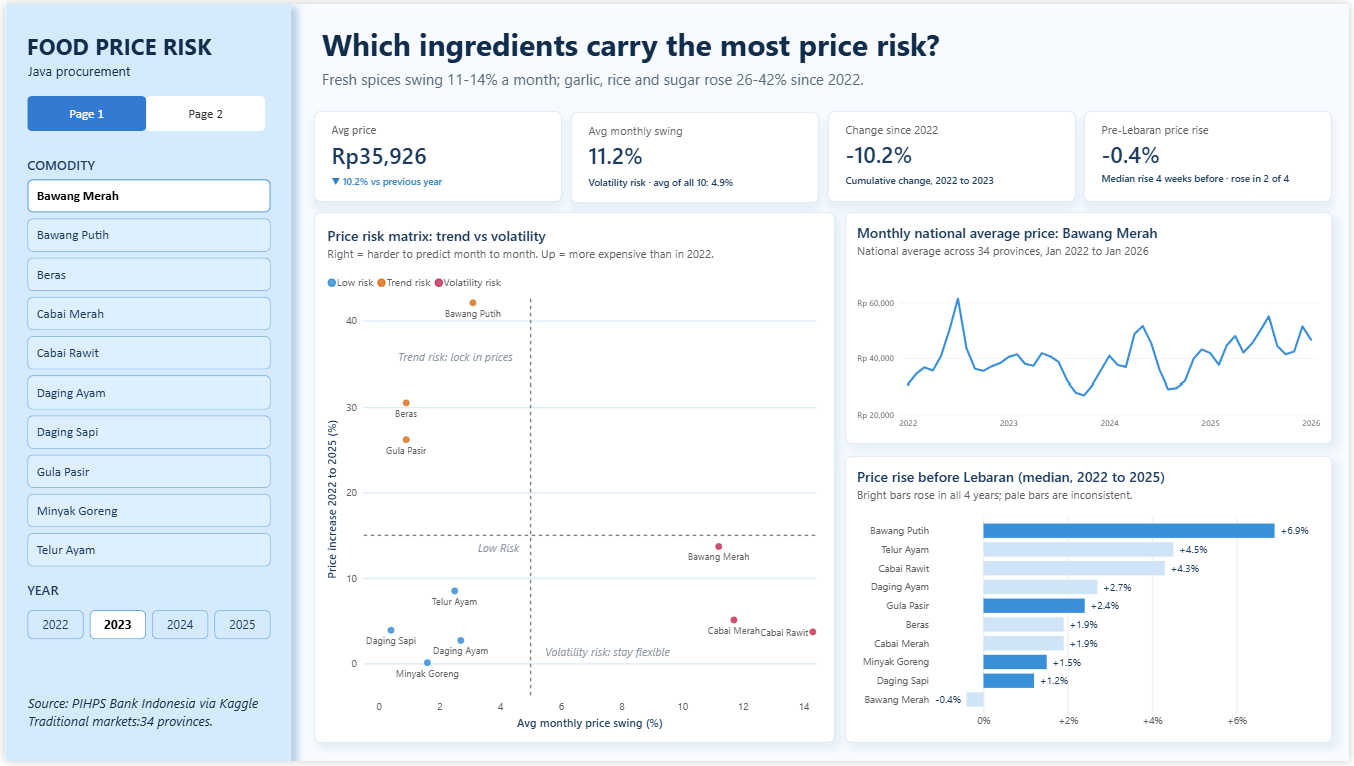

What the dashboard file says about the page in this screenshot:
{"tool":"powerbi","page":{"name":"Page 1","canvas":[1920,1080],"ordinal":0},"visuals":[{"type":"shape","box":[1.7,0,407,1080.3],"z":0},{"type":"advancedSlicerVisual","title":"COMODITY","fields":{"Values":["dim_komoditas.nama_komoditas"]},"box":[25,216.7,360,585],"z":1000},{"type":"advancedSlicerVisual","title":"YEAR","fields":{"Values":["dim_tahun.tahun"]},"box":[25,816.7,360,95],"z":2000},{"type":"textbox","box":[32.4,984.5,346.5,69],"z":3000},{"type":"pageNavigator","box":[25,131.7,353.3,50],"z":4000},{"type":"textbox","box":[31,36.6,332.9,47.1],"z":5000},{"type":"textbox","box":[453.5,29.1,925.4,59.2],"z":6000},{"type":"cardVisual","fields":{"Data":["_Measures.Harga Rata-rata"]},"box":[441.1,152.9,354,130],"z":7000},{"type":"textbox","box":[32.4,83.1,170.4,36.6],"z":8000},{"type":"textbox","box":[453.5,92.5,911.3,33.8],"z":9000},{"type":"cardVisual","fields":{"Data":["_Measures.Gejolak Bulanan"]},"box":[808.2,153.6,354.3,130],"z":10000},{"type":"cardVisual","fields":{"Data":["_Measures.Kenaikan vs 2022"]},"box":[1175.4,152.1,354,130],"z":11000},{"type":"cardVisual","fields":{"Data":["_Measures.Efek Lebaran"]},"box":[1541.1,152.1,354,130],"z":12000},{"type":"scatterChart","title":"Price risk matrix: trend vs volatility","fields":{"Category":["dim_komoditas.nama_komoditas"],"Series":["dim_komoditas.kelompok_risiko"],"X":["Avg(v_matriks_risiko.rata_gejolak_bulanan_pct)"],"Y":["Avg(v_matriks_risiko.kenaikan_2022_2025_pct)"]},"box":[441.1,296.4,744.3,757.1],"z":13000},{"type":"lineChart","fields":{"Category":["v_harga_bulanan.bulan"],"Y":["Avg(v_harga_bulanan.harga_rata)"]},"box":[1199.7,296.4,695.7,330],"z":14000},{"type":"clusteredBarChart","title":"Price rise before Lebaran (median, 2022 to 2025)","fields":{"Category":["dim_komoditas.nama_komoditas"],"Y":["Avg(v_matriks_risiko.efek_lebaran_median_pct)"]},"box":[1199.7,643.6,695.7,410],"z":15000},{"type":"textbox","box":[561.1,492.1,198.6,25.7],"z":16000},{"type":"textbox","box":[675.4,763.6,74.3,30],"z":17000},{"type":"textbox","box":[771.1,912.1,214.3,37.1],"z":18000}]}

Visuals, with their boxes in screenshot pixels (x1, y1, x2, y2), scaled from the page's 1920x1080 canvas onto the 1354x766 screenshot:
shape: bbox(1, 0, 288, 765)
"COMODITY" advancedSlicerVisual: bbox(18, 154, 272, 569)
"YEAR" advancedSlicerVisual: bbox(18, 579, 272, 647)
textbox: bbox(23, 698, 267, 747)
pageNavigator: bbox(18, 93, 267, 129)
textbox: bbox(22, 26, 257, 59)
textbox: bbox(320, 21, 972, 63)
cardVisual - _Measures.Harga Rata-rata: bbox(311, 108, 561, 201)
textbox: bbox(23, 59, 143, 85)
textbox: bbox(320, 66, 962, 90)
cardVisual - _Measures.Gejolak Bulanan: bbox(570, 109, 820, 201)
cardVisual - _Measures.Kenaikan vs 2022: bbox(829, 108, 1079, 200)
cardVisual - _Measures.Efek Lebaran: bbox(1087, 108, 1336, 200)
"Price risk matrix: trend vs volatility" scatterChart: bbox(311, 210, 836, 747)
lineChart - v_harga_bulanan.bulan x Avg(v_harga_bulanan.harga_rata): bbox(846, 210, 1337, 444)
"Price rise before Lebaran (median, 2022 to 2025)" clusteredBarChart: bbox(846, 456, 1337, 747)
textbox: bbox(396, 349, 536, 367)
textbox: bbox(476, 542, 529, 563)
textbox: bbox(544, 647, 695, 673)
